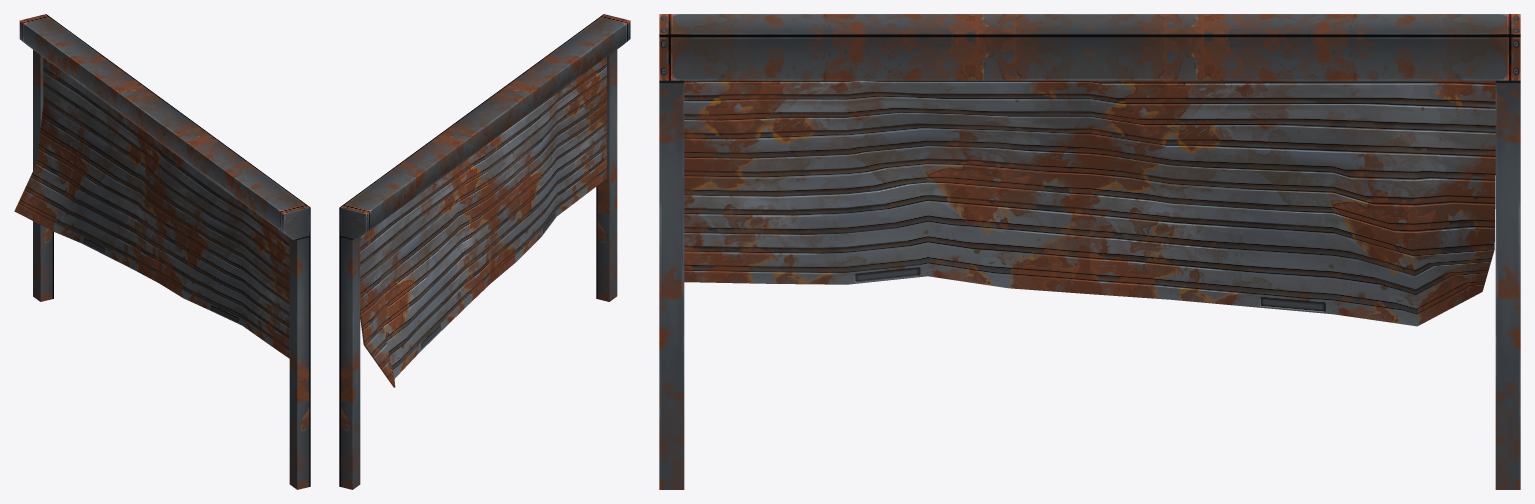
The model's file is rollerShutter03_6m_B.fbx.
3 renders of one model, left to right at view 1: azimuth 30°, elevation 25°; view 2: azimuth 150°, elevation 25°; view 3: azimuth 270°, elevation 25°, orthographic. The views are drawn at different scales.
Parts seen in each view (by area): view 1: rollerShutter03_6m_B; view 2: rollerShutter03_6m_B; view 3: rollerShutter03_6m_B.
Part boxes in pixels (box(x1,y1,x2,y2)): rollerShutter03_6m_B: box(14, 14, 310, 489); rollerShutter03_6m_B: box(339, 14, 630, 489); rollerShutter03_6m_B: box(659, 14, 1520, 489).
Bounding box in the file's own units: 49.41 × 300 × 515.
